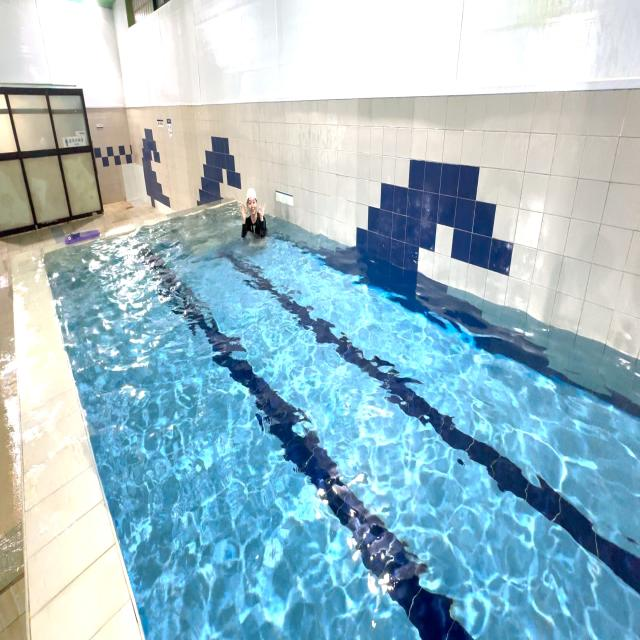Swimming: (237, 185, 269, 241)
